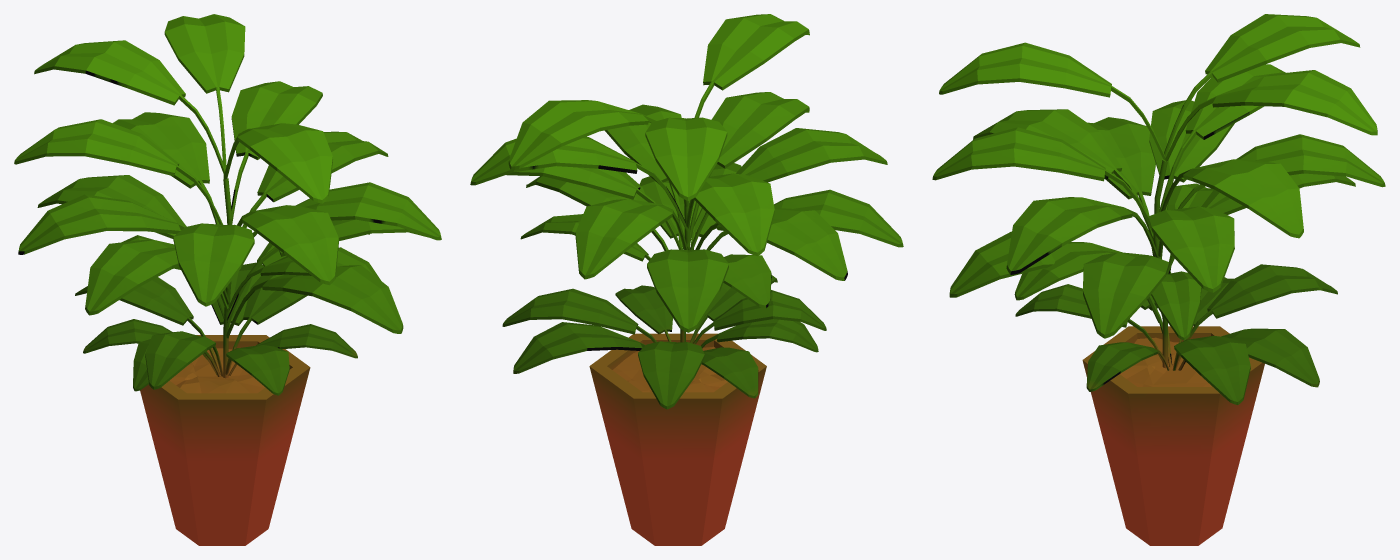
Rendered from Plant.fbx.
The picture shows the model from 3 angles, left to right: view 1: azimuth 30°, elevation 25°; view 2: azimuth 150°, elevation 25°; view 3: azimuth 270°, elevation 25°; orthographic projection. The views are drawn at different scales.
Parts seen in each view (by area): view 1: Planet.026; view 2: Planet.026; view 3: Planet.026.
Boxes of the visible parts, bbox=[...] form: Planet.026: bbox=[14, 14, 441, 545]; Planet.026: bbox=[470, 14, 903, 545]; Planet.026: bbox=[932, 14, 1385, 545].
Bounding box in the file's own units: 0.6364 × 0.7546 × 0.6553.
1 material, 1 textured.
